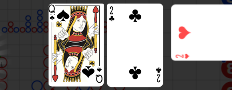2C: (155, 67, 163, 84)
QS: (87, 58, 113, 82), (53, 4, 79, 28)
